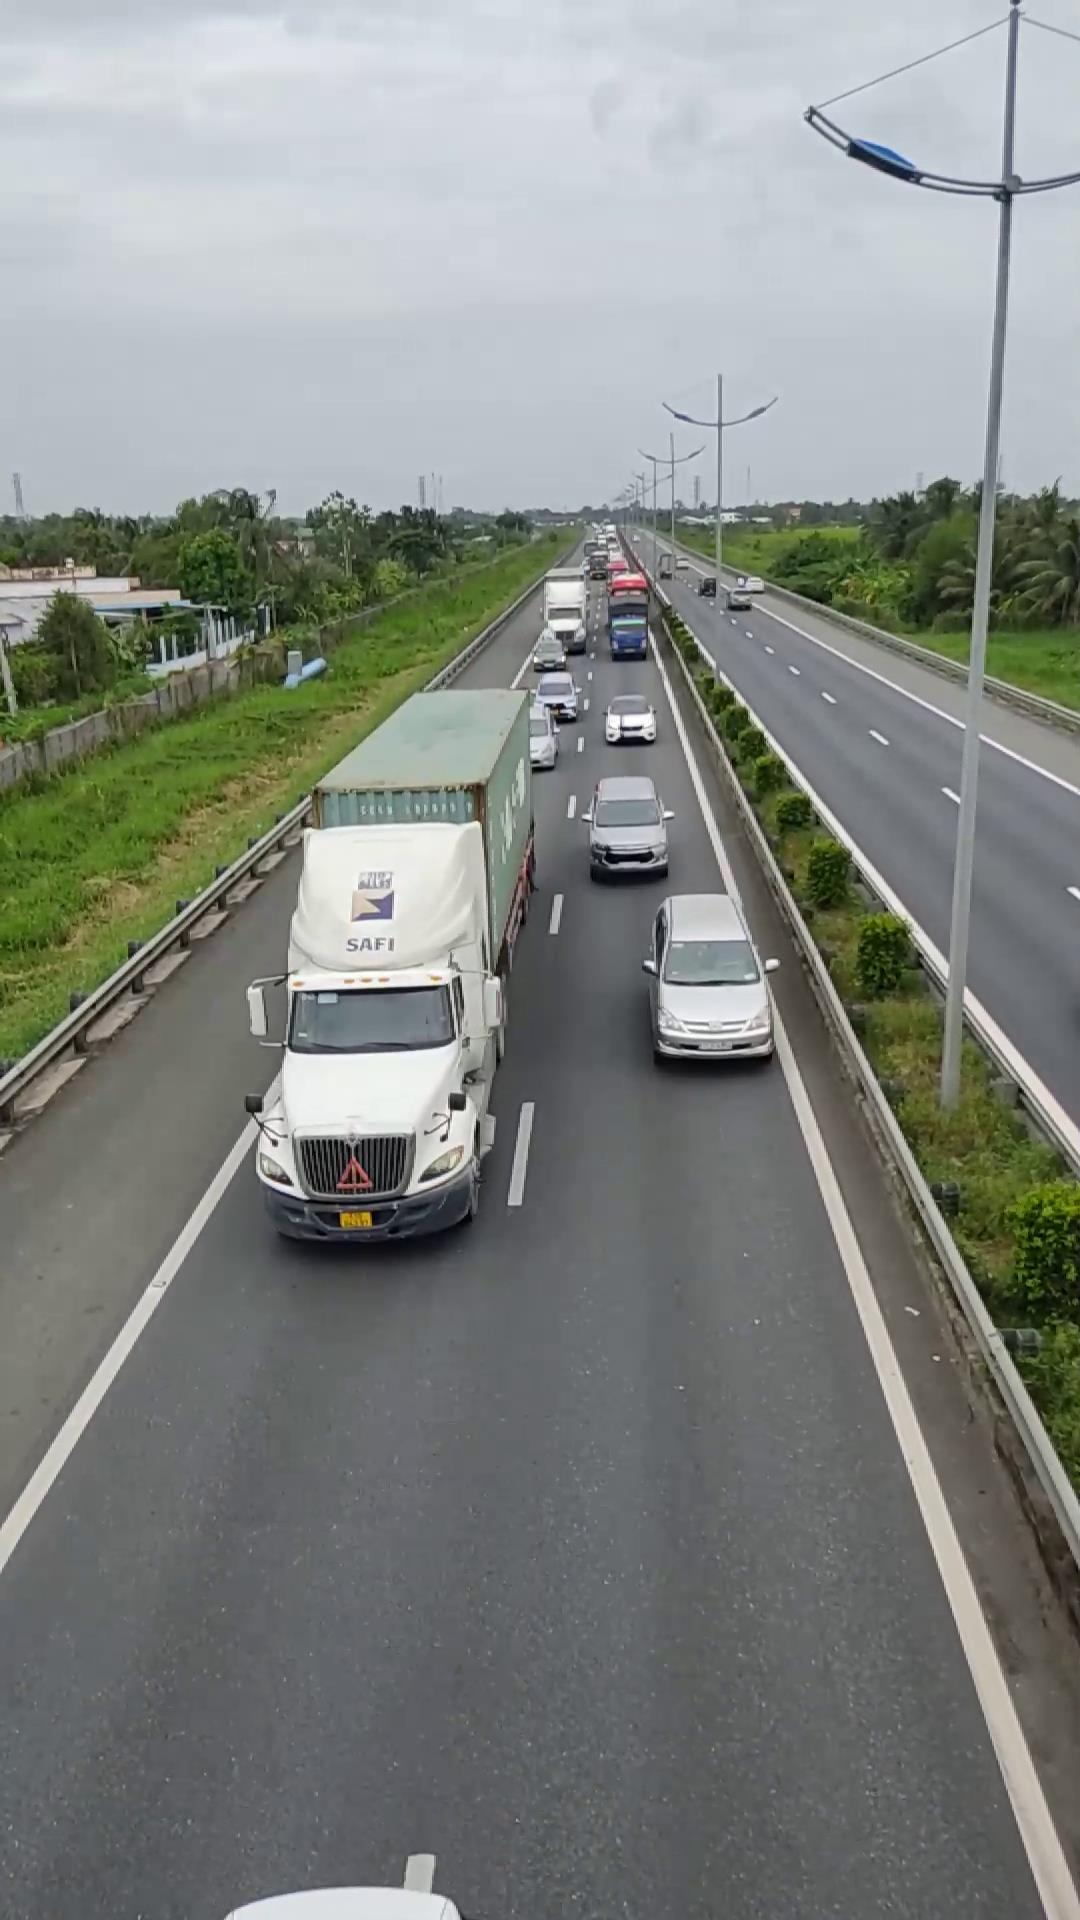car: (642, 891, 778, 1064), (582, 773, 674, 880)
container: (247, 680, 535, 1249)
